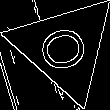O_E: (33, 20, 96, 76)
